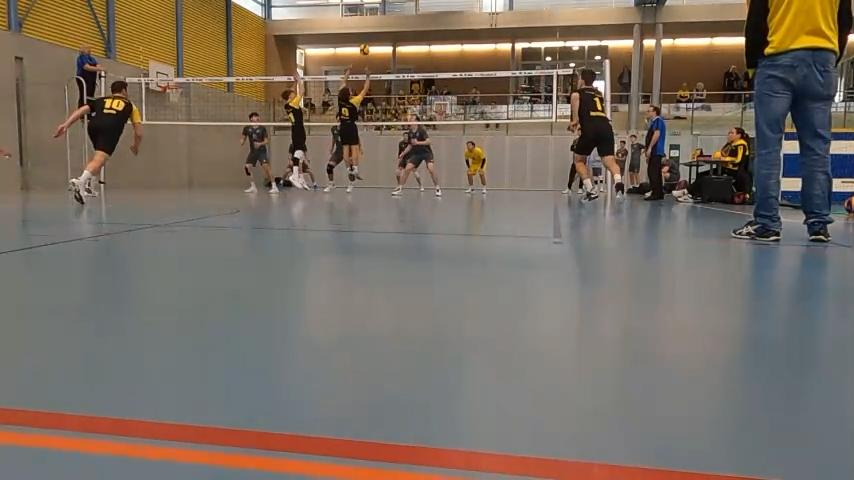alzata: (332, 67, 381, 186)
